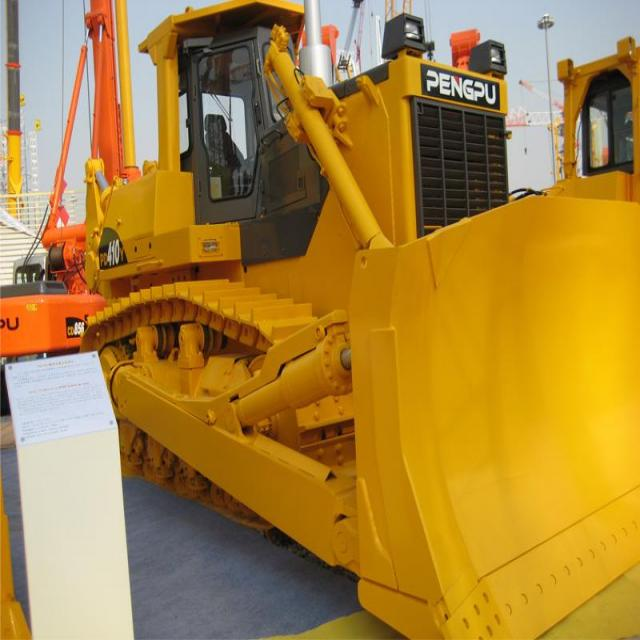Bulldozer: (53, 3, 632, 639)
